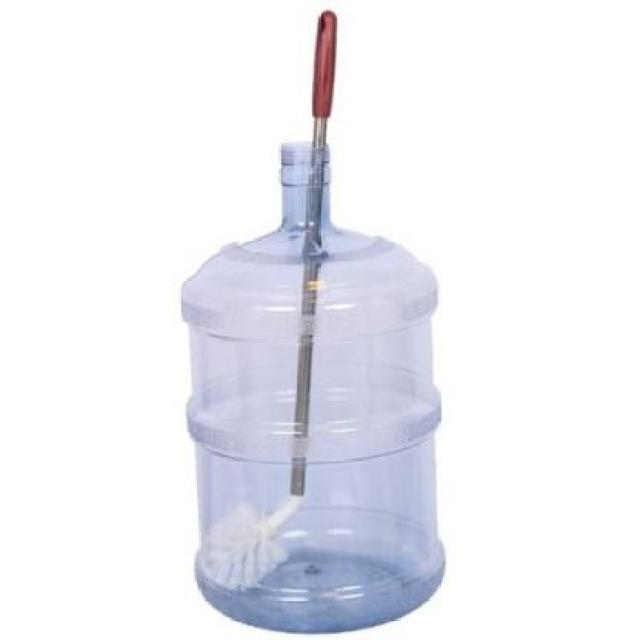coolerbottle: (177, 136, 451, 640)
